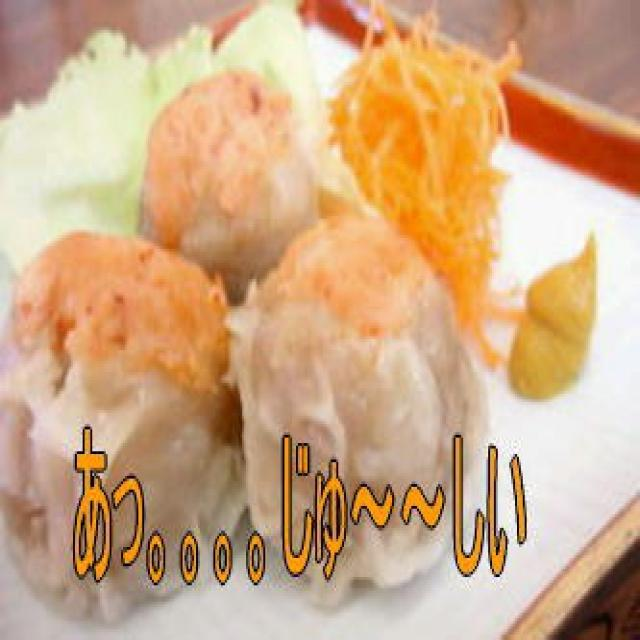带馅早点: (0, 66, 494, 418)
